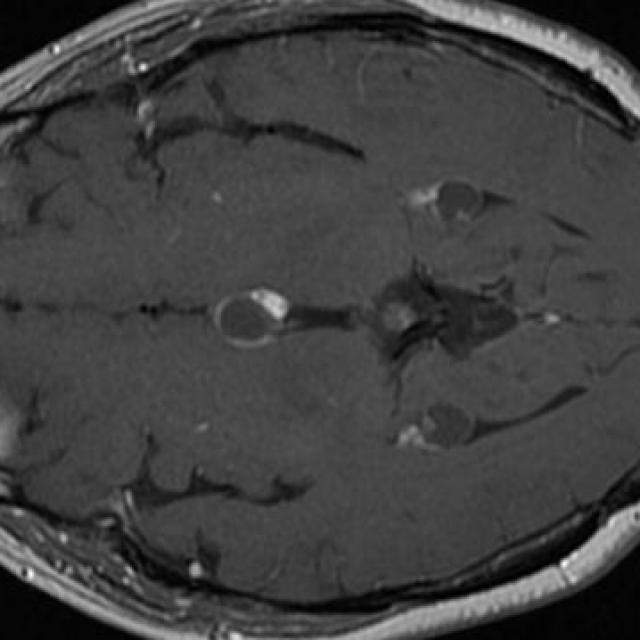pituitary: (212, 289, 291, 351)
